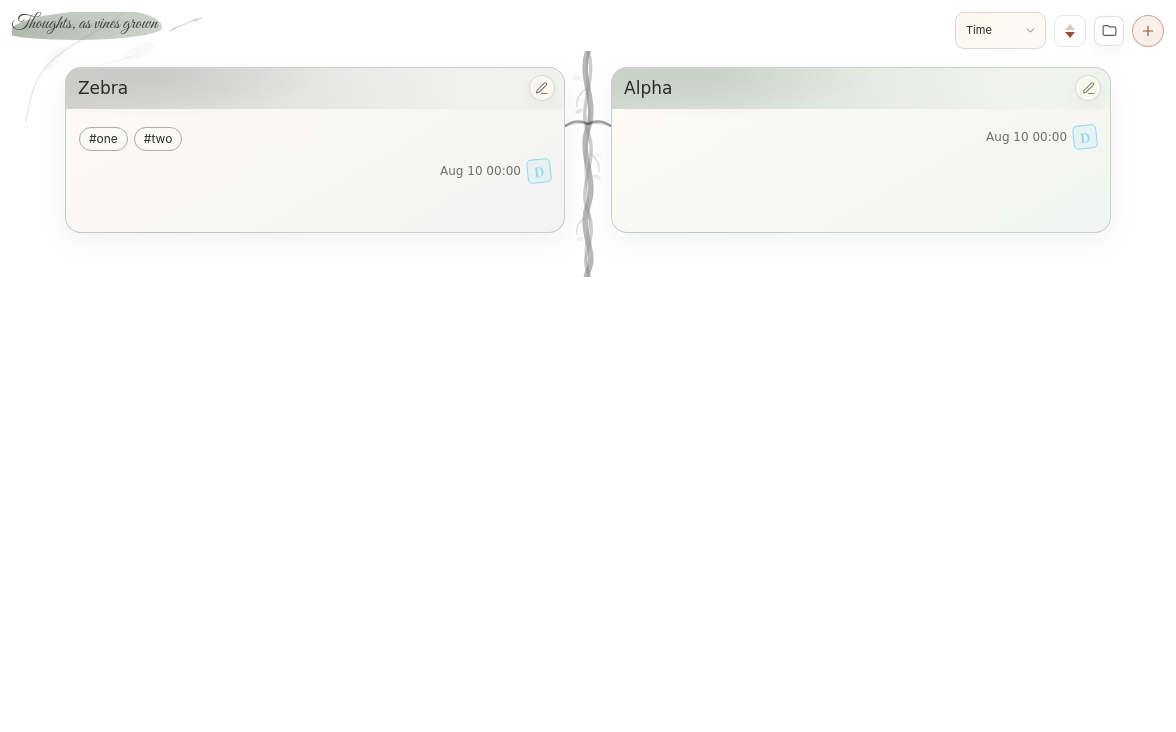
Test: groups sorted ideas, exposes category navigation and renders tag bubbles
Click the button named "Group by category" at [1109, 30], box [1094,16,1124,46]
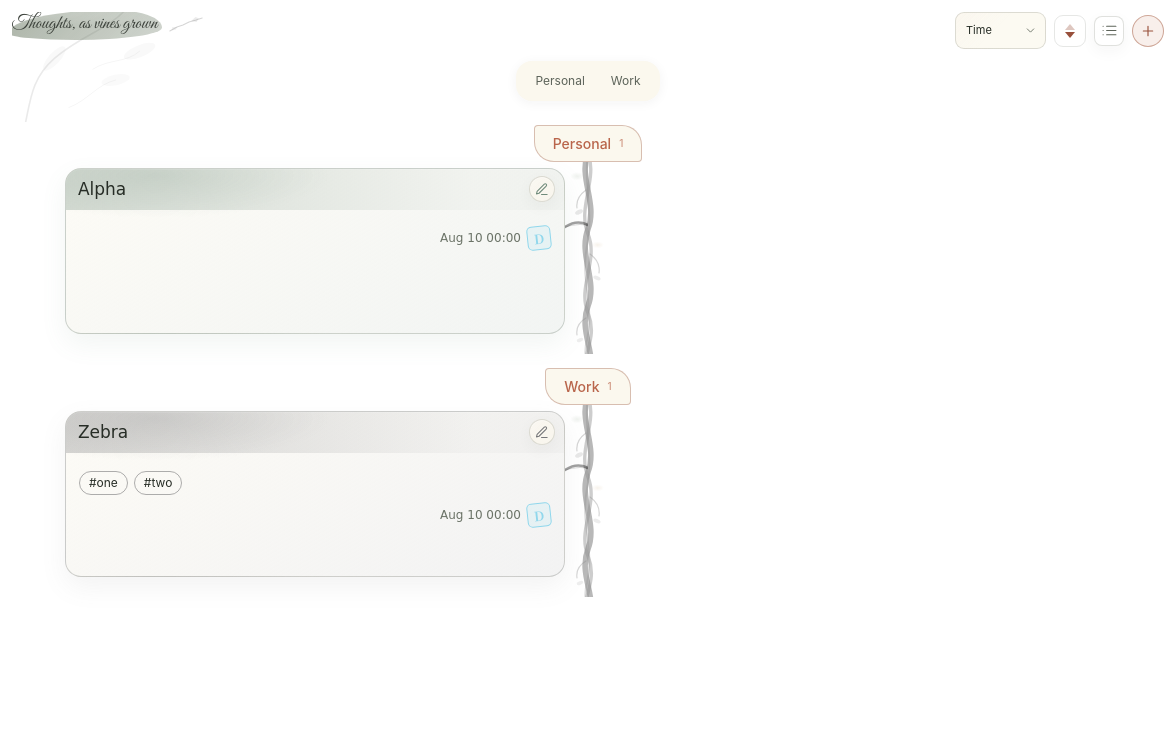
Expected: the number of elements with class "idea-card" is 2, [65,168,565,334]; [65,411,565,577]
Expected: the number of elements with class "idea-group" is 2, [65,125,642,334]; [65,368,631,577]
Click the button named "Group by category" at [1109, 30], box [1094,16,1124,46]
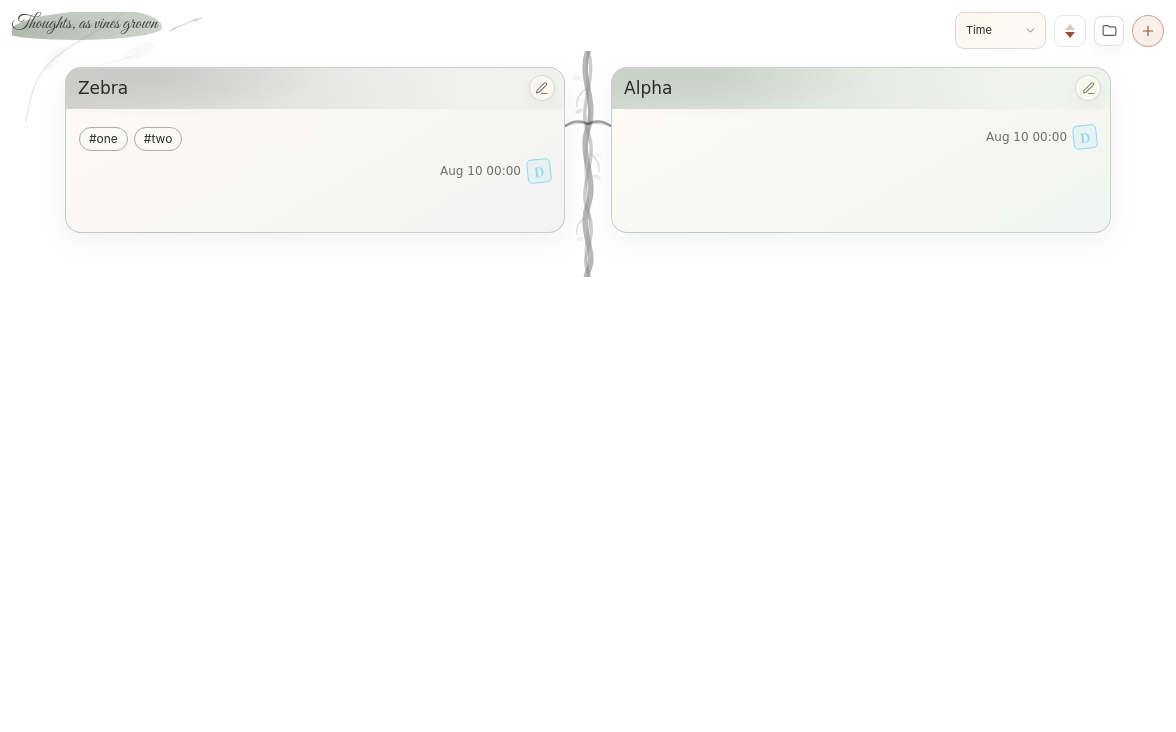
Expected: the number of elements with class "idea-card" is 2, [65,67,565,233]; [611,67,1111,233]
Expected: the element with class "idea-group" is gone
